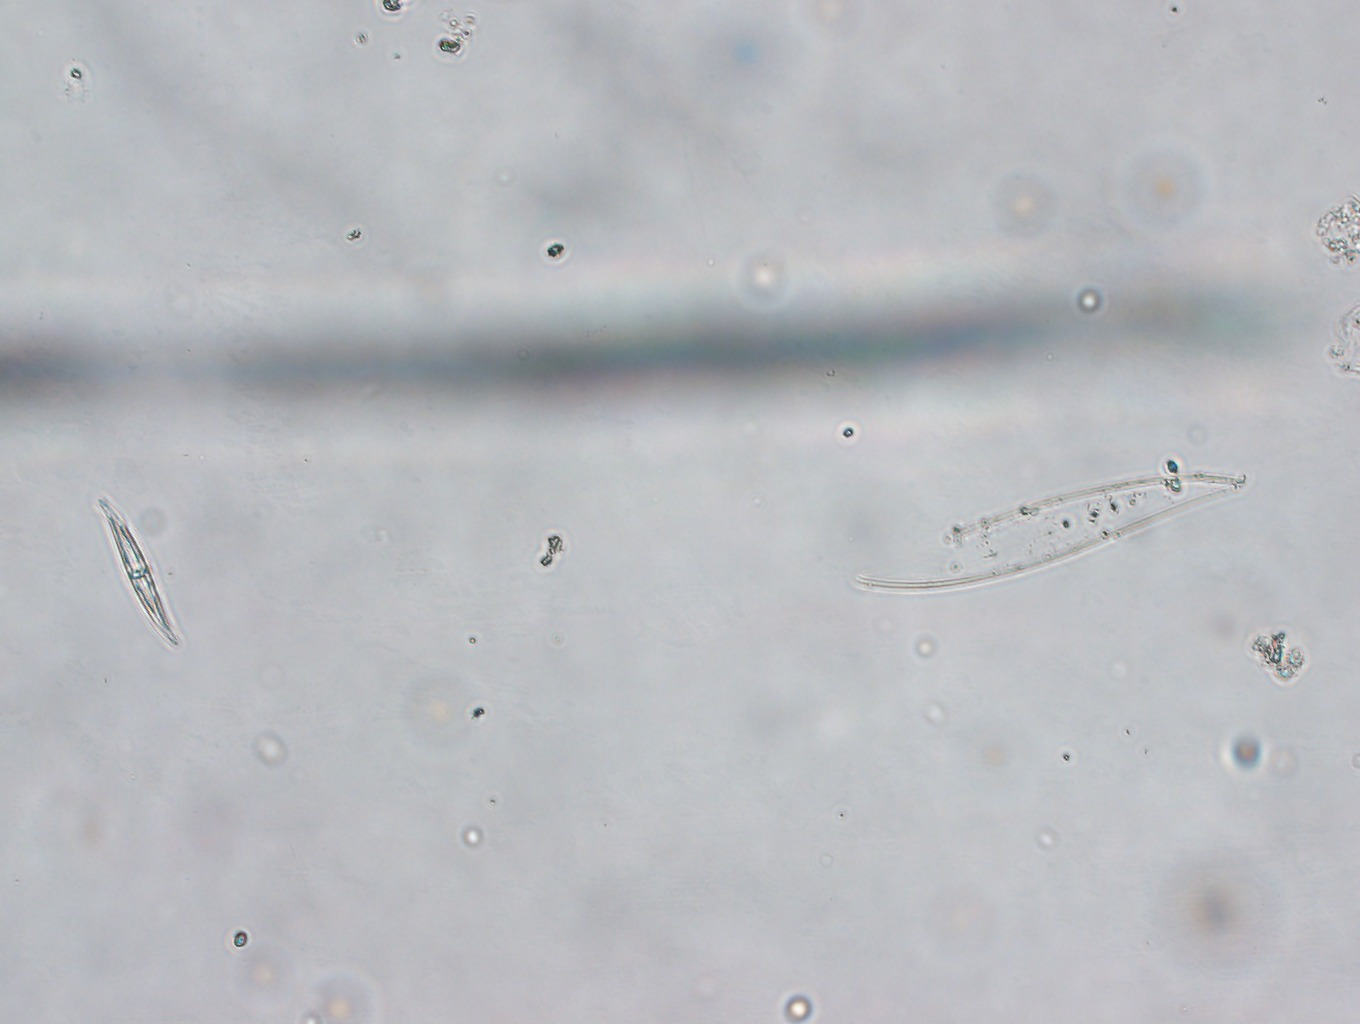pleurosigma pelagicum: (91, 487, 182, 651)
